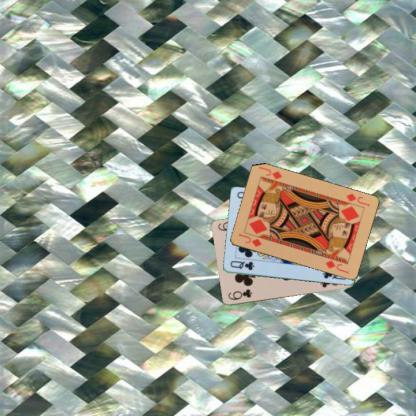6c: (225, 286, 253, 302)
Jd: (236, 231, 263, 249), (343, 191, 371, 208)
Qc: (228, 258, 255, 272)
